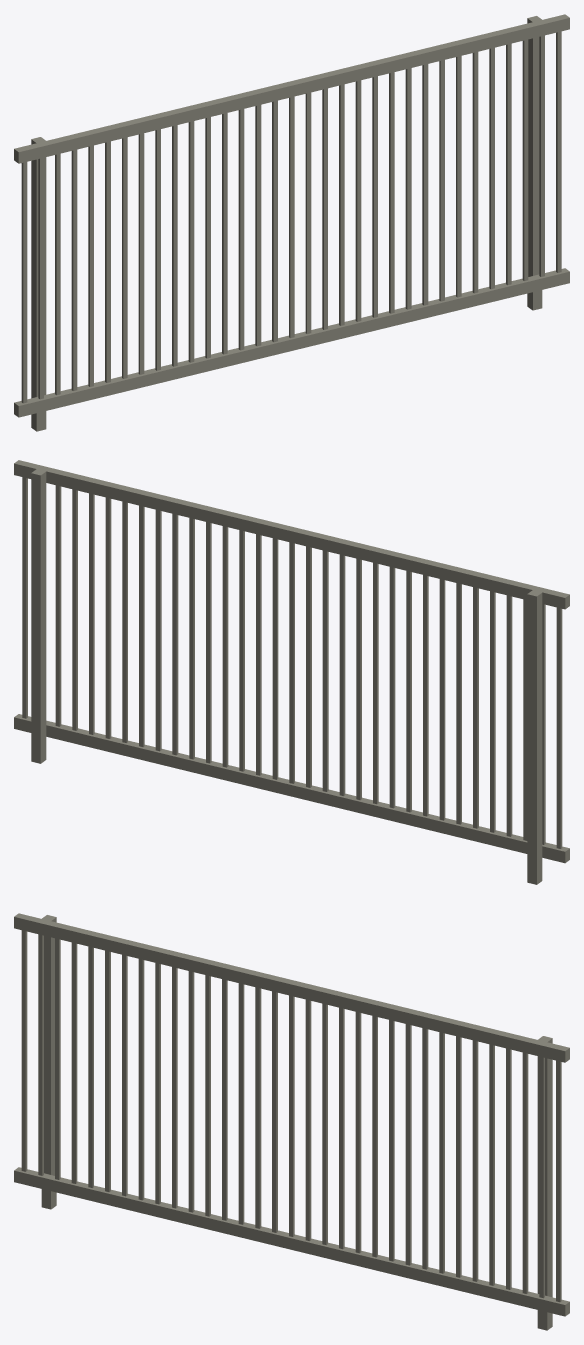
The model's file is eaf-tategousi_h2010_stain.fbx.
3 views of the same model, one above another, from view 1: azimuth 30°, elevation 25°; view 2: azimuth 150°, elevation 25°; view 3: azimuth 330°, elevation 25° (orthographic).
Parts seen in each view (by area): view 1: eaf-tategousi_h2008_stain.001; view 2: eaf-tategousi_h2008_stain.001; view 3: eaf-tategousi_h2008_stain.001.
Part boxes in pixels (x1,y1,x2,y2): eaf-tategousi_h2008_stain.001: (14, 14, 569, 431); eaf-tategousi_h2008_stain.001: (14, 460, 569, 884); eaf-tategousi_h2008_stain.001: (14, 913, 569, 1330).
Bounding box in the file's own units: 200 × 100 × 6.5.
1 material, 1 textured.
